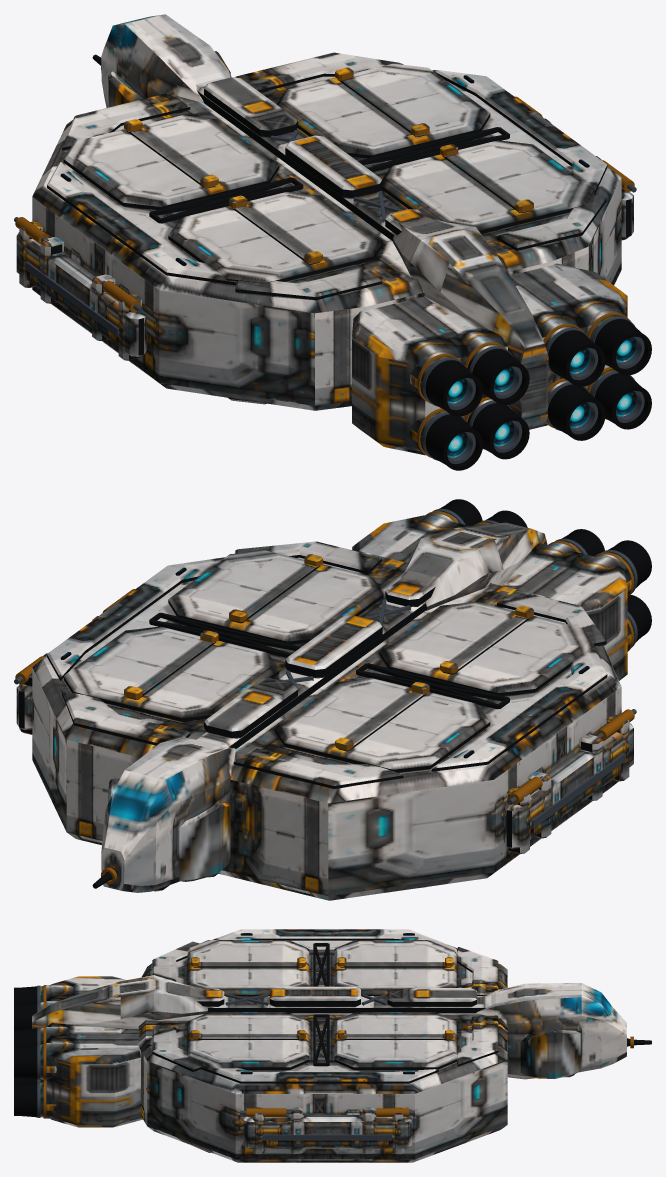
File: heavy-freighter.obj
3 views of the same model, one above another, from view 1: azimuth 30°, elevation 25°; view 2: azimuth 150°, elevation 25°; view 3: azimuth 270°, elevation 25° (orthographic). The views are drawn at different scales.
Visible parts, largest first — view 1: hull_|_continuous_armored_pressure_body, drive_|_armored_eight-engine_support, cargo.port.1_|_armored_dorsal_hatch, stern_|_central_reactor-service_fairing, cargo.port.2_|_armored_dorsal_hatch, cargo.starboard.1_|_armored_dorsal_hatch, cargo.starboard.2_|_armored_dorsal_hatch, bridge_|_faceted_command_prow, armor.port_|_perimeter_cheek, crane.port_|_folded_longitudinal_carrier, armor.starboard_|_perimeter_cheek, spine_|_midship_radiator_housing (+30 smaller); view 2: hull_|_continuous_armored_pressure_body, bridge_|_faceted_command_prow, cargo.port.1_|_armored_dorsal_hatch, cargo.port.2_|_armored_dorsal_hatch, cargo.starboard.1_|_armored_dorsal_hatch, cargo.starboard.2_|_armored_dorsal_hatch, drive_|_armored_eight-engine_support, stern_|_central_reactor-service_fairing, armor.port_|_perimeter_cheek, crane.port_|_folded_longitudinal_carrier, armor.starboard_|_perimeter_cheek, bridge.port_|_sensor_fairing (+20 smaller); view 3: hull_|_continuous_armored_pressure_body, drive_|_armored_eight-engine_support, bridge_|_faceted_command_prow, cargo.starboard.1_|_armored_dorsal_hatch, stern_|_central_reactor-service_fairing, cargo.starboard.2_|_armored_dorsal_hatch, cargo.port.2_|_armored_dorsal_hatch, cargo.port.1_|_armored_dorsal_hatch, crane.starboard_|_folded_longitudinal_carrier, bridge.starboard_|_sensor_fairing, armor.starboard_|_perimeter_cheek, spine_|_continuous_service_keel (+24 smaller).
Boxes of the visible parts, x1,y1,x2,y2 form: hull_|_continuous_armored_pressure_body: (32,76,621,410); drive_|_armored_eight-engine_support: (352,263,627,455); cargo.port.1_|_armored_dorsal_hatch: (63,115,279,210); stern_|_central_reactor-service_fairing: (393,215,548,428); cargo.port.2_|_armored_dorsal_hatch: (168,192,383,283); cargo.starboard.1_|_armored_dorsal_hatch: (276,63,490,158); cargo.starboard.2_|_armored_dorsal_hatch: (381,140,594,234); bridge_|_faceted_command_prow: (101,14,231,107); armor.port_|_perimeter_cheek: (47,161,236,285); crane.port_|_folded_longitudinal_carrier: (16,232,146,356); armor.starboard_|_perimeter_cheek: (432,70,607,194); spine_|_midship_radiator_housing: (285,135,382,198); hull_|_continuous_armored_pressure_body: (32,551,621,900); bridge_|_faceted_command_prow: (101,737,235,892); cargo.port.1_|_armored_dorsal_hatch: (274,678,490,773); cargo.port.2_|_armored_dorsal_hatch: (379,601,594,696); cargo.starboard.1_|_armored_dorsal_hatch: (63,626,279,722); cargo.starboard.2_|_armored_dorsal_hatch: (168,550,383,644); drive_|_armored_eight-engine_support: (352,515,627,680); stern_|_central_reactor-service_fairing: (398,522,547,610); armor.port_|_perimeter_cheek: (431,646,607,771); crane.port_|_folded_longitudinal_carrier: (504,722,633,848); armor.starboard_|_perimeter_cheek: (47,557,224,680); bridge.port_|_sensor_fairing: (179,802,230,881); hull_|_continuous_armored_pressure_body: (138,940,507,1162); drive_|_armored_eight-engine_support: (46,976,142,1127); bridge_|_faceted_command_prow: (476,983,626,1079); cargo.starboard.1_|_armored_dorsal_hatch: (334,1012,456,1070); stern_|_central_reactor-service_fairing: (32,975,207,1028); cargo.starboard.2_|_armored_dorsal_hatch: (187,1012,309,1070); cargo.port.2_|_armored_dorsal_hatch: (187,940,309,995); cargo.port.1_|_armored_dorsal_hatch: (334,940,456,995); crane.starboard_|_folded_longitudinal_carrier: (243,1115,411,1148); bridge.starboard_|_sensor_fairing: (520,1029,580,1078); armor.starboard_|_perimeter_cheek: (201,1066,438,1083); spine_|_continuous_service_keel: (208,996,491,1013).
Size of the model in its own units: 9.63 by 2.8 by 14.86.
7 materials, 2 textured.
